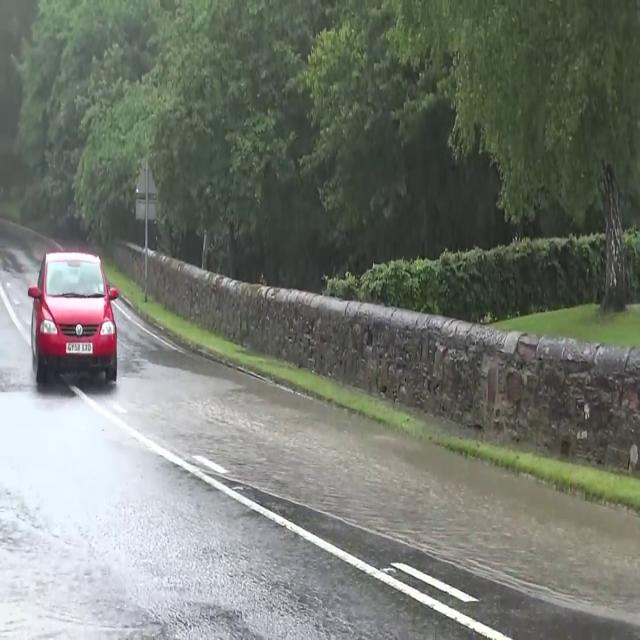license-plate-annotation: (64, 338, 94, 352)
